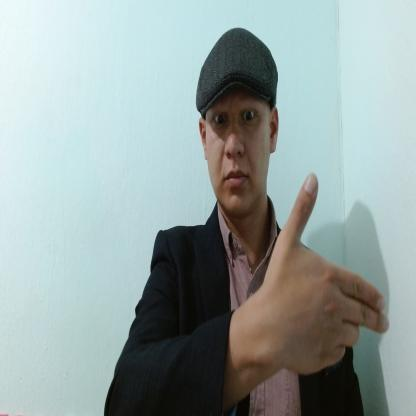H: (264, 172, 390, 378)
